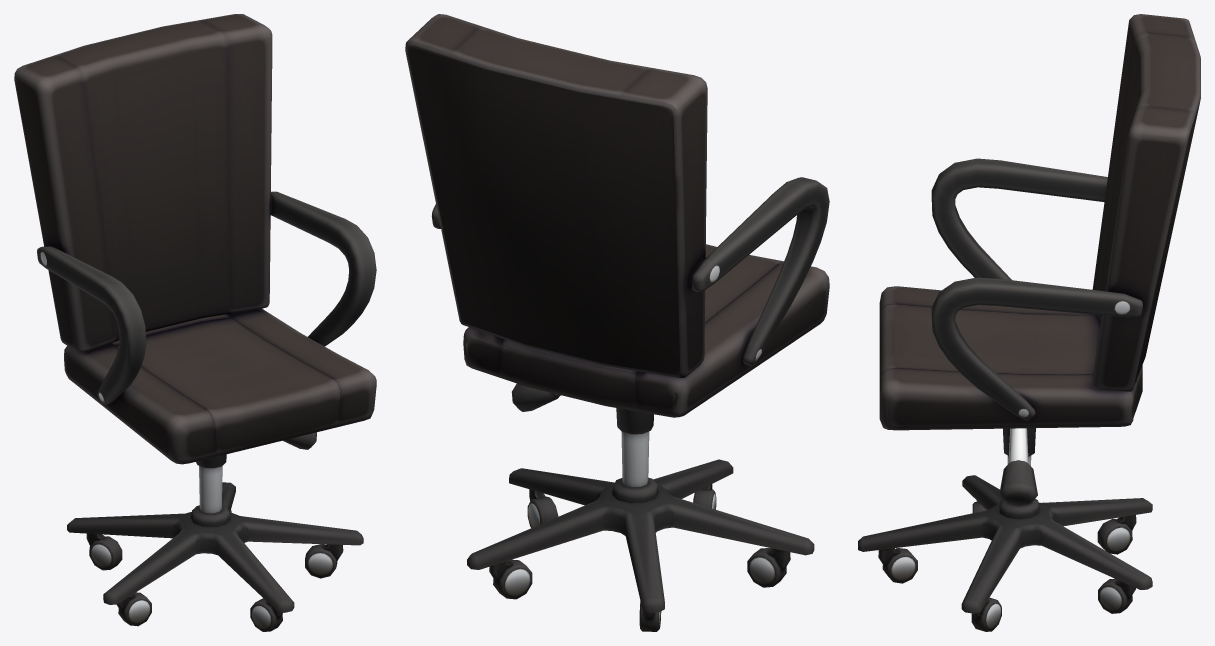
The model's file is OfficeChair02.FBX.
3 views of the same model, side by side, from view 1: azimuth 30°, elevation 25°; view 2: azimuth 150°, elevation 25°; view 3: azimuth 270°, elevation 25° (orthographic). The views are drawn at different scales.
Visible parts, largest first — view 1: OfficeChair02; view 2: OfficeChair02; view 3: OfficeChair02.
Boxes of the visible parts, x1,y1,x2,y2 form: OfficeChair02: (14, 14, 376, 631); OfficeChair02: (405, 14, 829, 631); OfficeChair02: (858, 14, 1200, 631).
Size of what is drawn, in the model's own units: 0.7247 by 1.32 by 0.8027.
